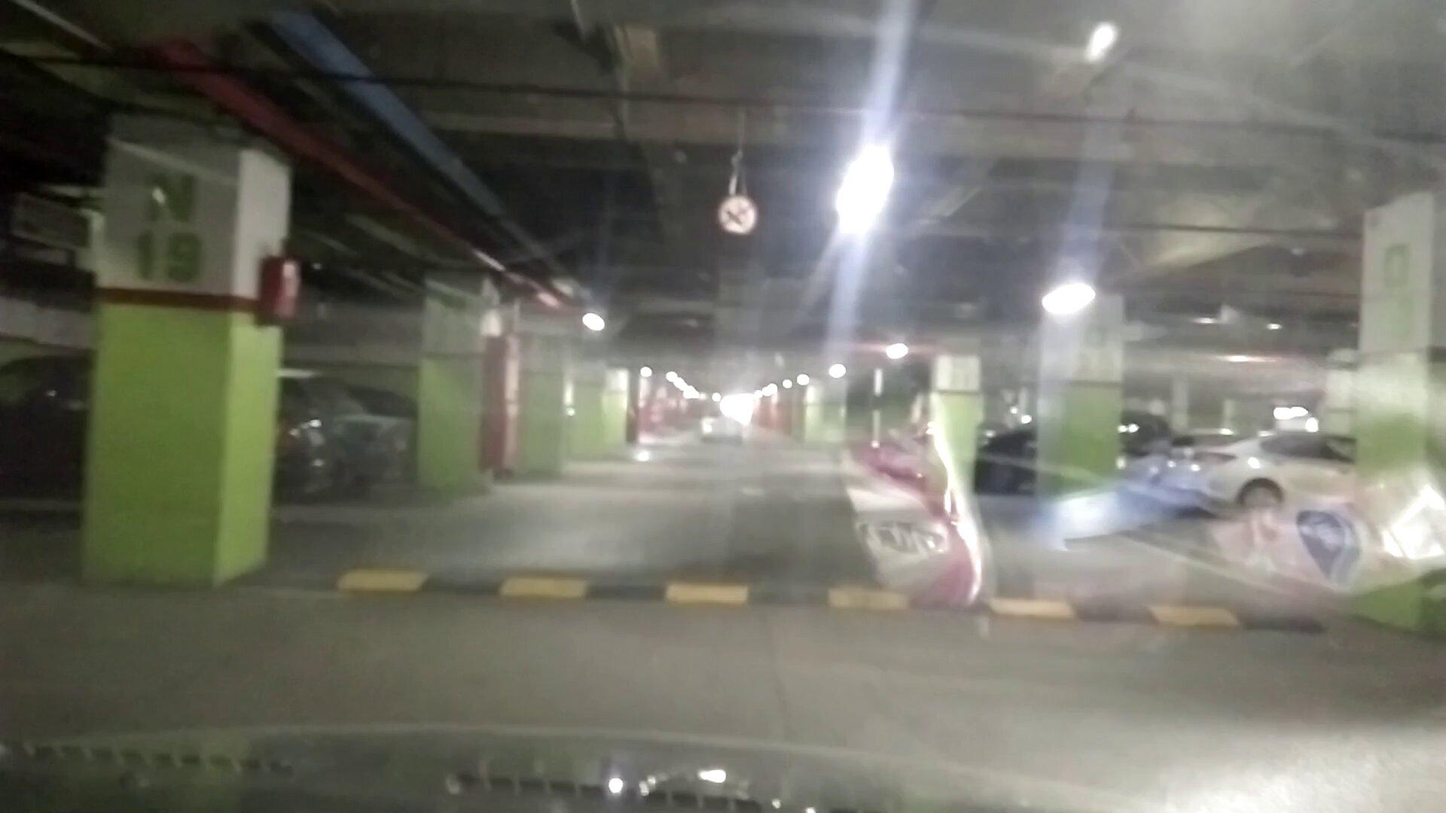Bump: (309, 548, 1397, 651)
